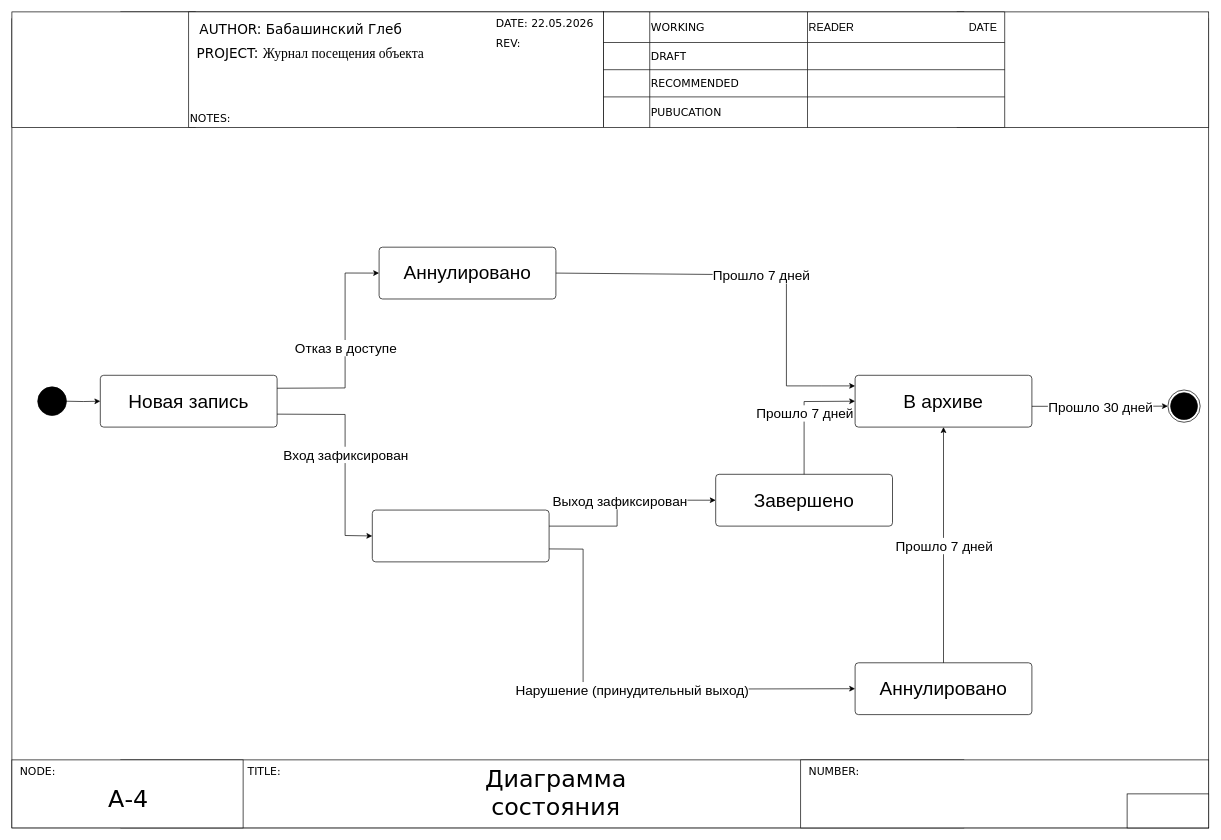
Image size: 1221x840. Some labels were removed from this diagram. The box of each missing label's shape, as (x1, y1, x2, y2) in pixels:
CONTEXT:: (956, 11, 1209, 128)
USET AT:: (11, 11, 196, 128)
Внутри объекта: (372, 509, 549, 562)
